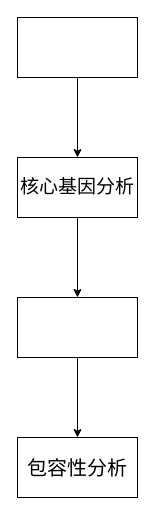
Some shapes in this 155 by 515 pixel diagram are drawn without their labels. Here are the shapes that lost their labels. From the top down, the box of each, then its label:
(16, 16, 138, 78): 基因预测
(16, 296, 138, 358): 特异性分析
